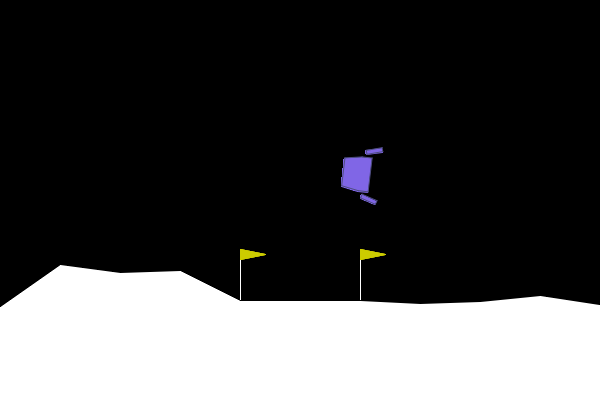lander: (337, 142, 384, 206)
